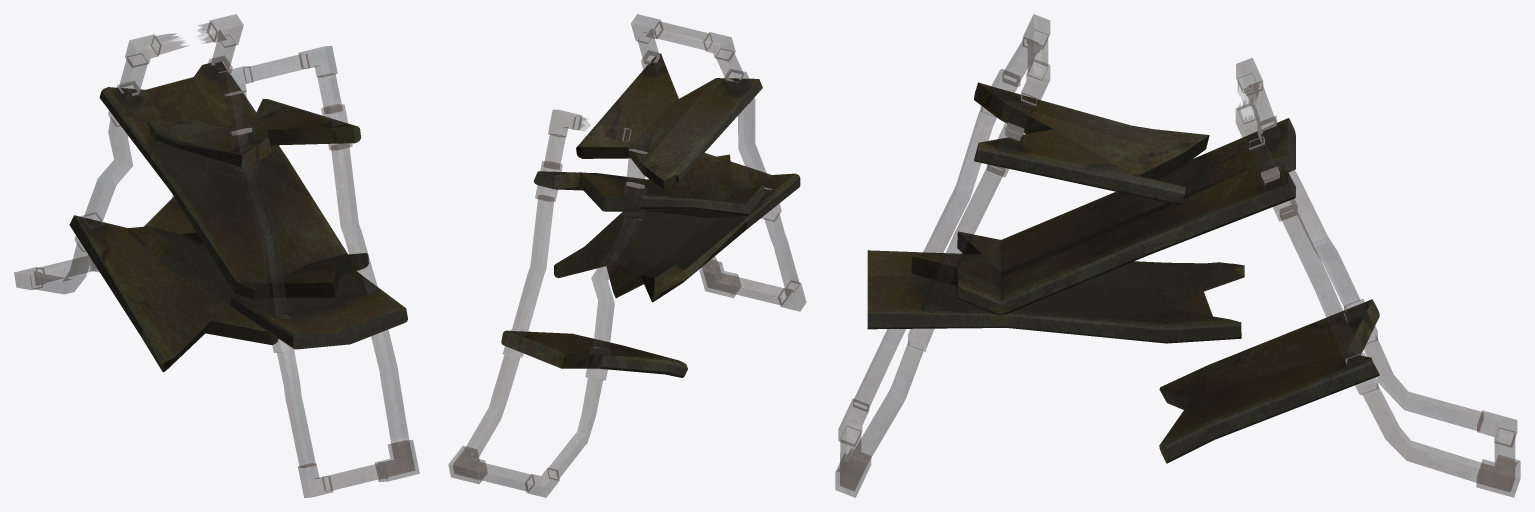
The model's file is BarraLarga_Destrozada.glb.
3 views of the same model, side by side, from view 1: azimuth 30°, elevation 25°; view 2: azimuth 150°, elevation 25°; view 3: azimuth 270°, elevation 25° (orthographic). The views are drawn at different scales.
Parts seen in each view (by area): view 1: Cube.003, Cube.002; view 2: Cube.003, Cube.002; view 3: Cube.003, Cube.002.
Boxes of the visible parts, left/top/right/bottom form: Cube.003: left=69, top=61, right=407, bottom=372; Cube.002: left=14, top=14, right=419, bottom=497; Cube.003: left=501, top=54, right=800, bottom=377; Cube.002: left=448, top=14, right=806, bottom=497; Cube.003: left=867, top=82, right=1379, bottom=463; Cube.002: left=835, top=14, right=1520, bottom=497.
Bounding box in the file's own units: 0.7821 × 2.27 × 3.33.
2 materials, 2 textured.
